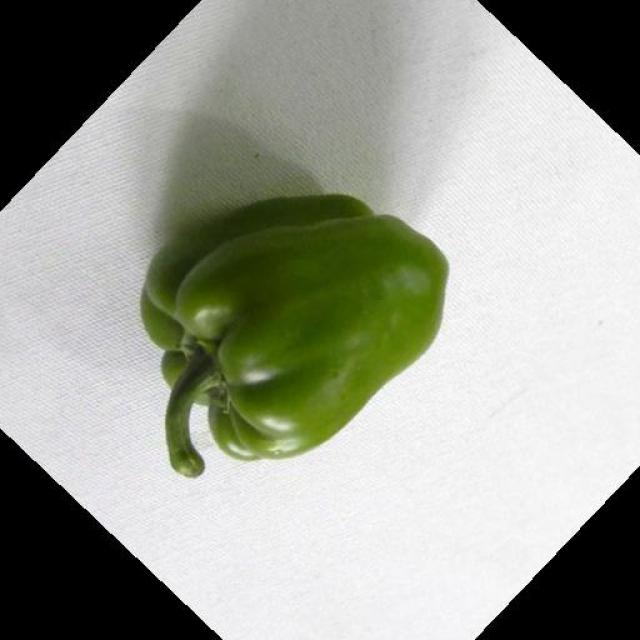Fresh_Capsicum: (146, 188, 467, 438)
